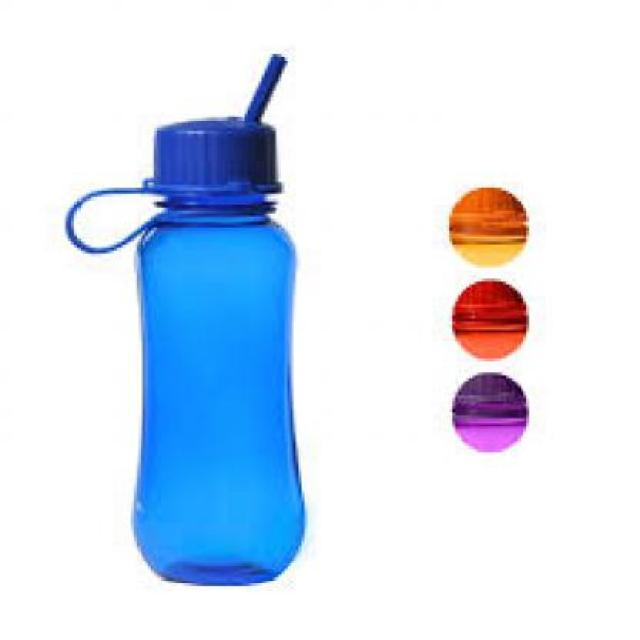Drinking: (96, 77, 327, 606)
